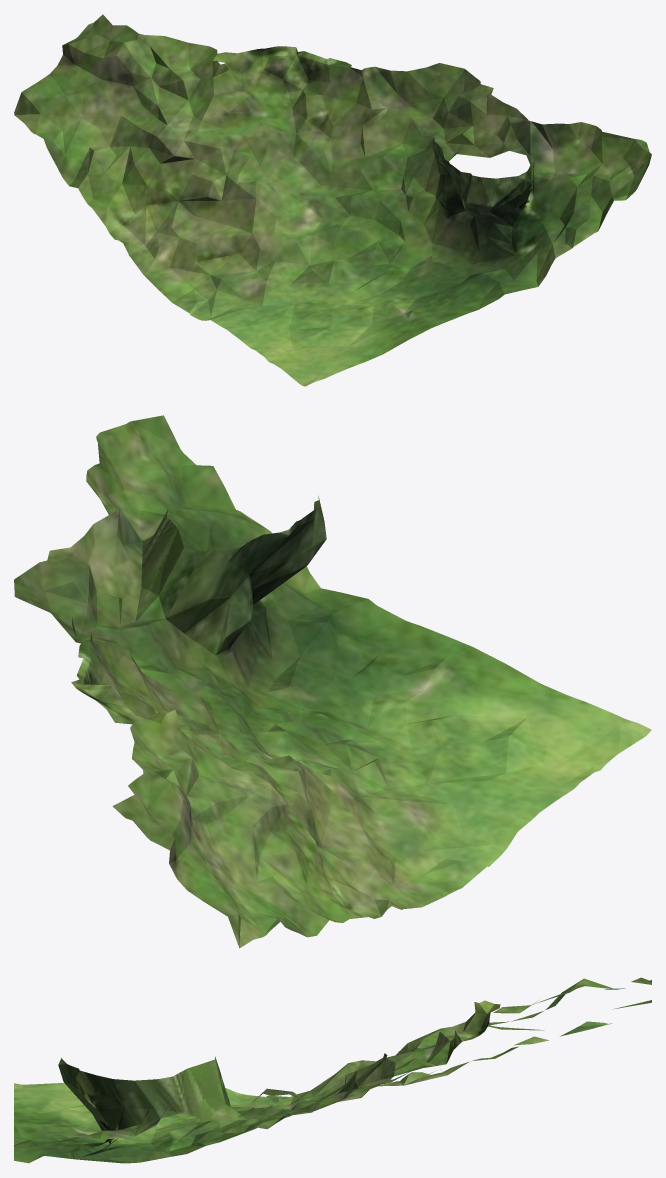
The picture shows the model from 3 angles, top to bottom: view 1: azimuth 30°, elevation 25°; view 2: azimuth 150°, elevation 25°; view 3: azimuth 270°, elevation 25°; orthographic projection. The views are drawn at different scales.
Size of the model in its own units: 18.91 by 7.49 by 26.11.
2 materials, 2 textured.
